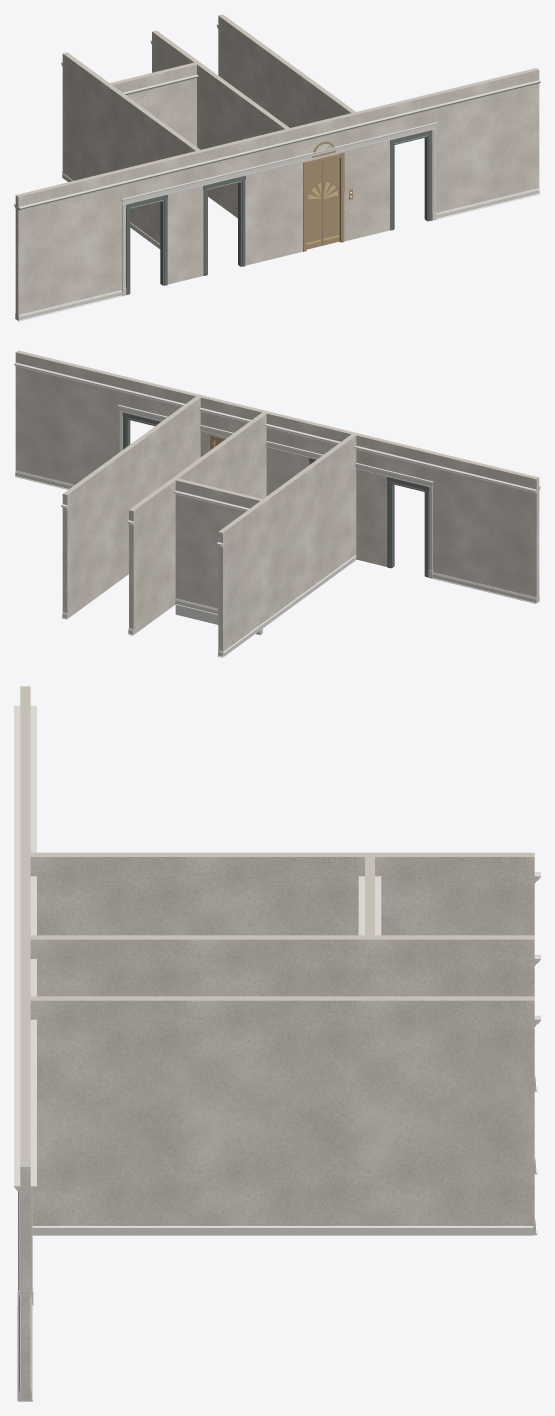
The model's file is plan_1.glb.
3 renders of one model, top to bottom at view 1: azimuth 30°, elevation 25°; view 2: azimuth 150°, elevation 25°; view 3: azimuth 270°, elevation 25°, orthographic. The views are drawn at different scales.
Parts seen in each view (by area): view 1: plan_1_plaster, molduras, plan_1_frame, plan_1_bronze; view 2: plan_1_plaster, molduras, plan_1_frame, plan_1_trim, plan_1_ceil; view 3: plan_1_plaster, molduras, plan_1_trim.
Boxes of the visible parts, x1,y1,x2,y2 form: plan_1_plaster: (15,14,539,320); molduras: (14,24,540,321); plan_1_frame: (126,130,432,294); plan_1_bronze: (303,141,352,251); plan_1_plaster: (15,350,539,656); molduras: (14,362,540,657); plan_1_frame: (122,412,428,577); plan_1_trim: (223,555,356,656); plan_1_ceil: (175,605,262,635); plan_1_plaster: (20,686,534,1401); molduras: (14,705,540,1401); plan_1_trim: (32,1226,533,1235).
Bounding box in the file's own units: 13.4 × 3.3 × 6.21.
Materials: 9 (1 with a texture image).
